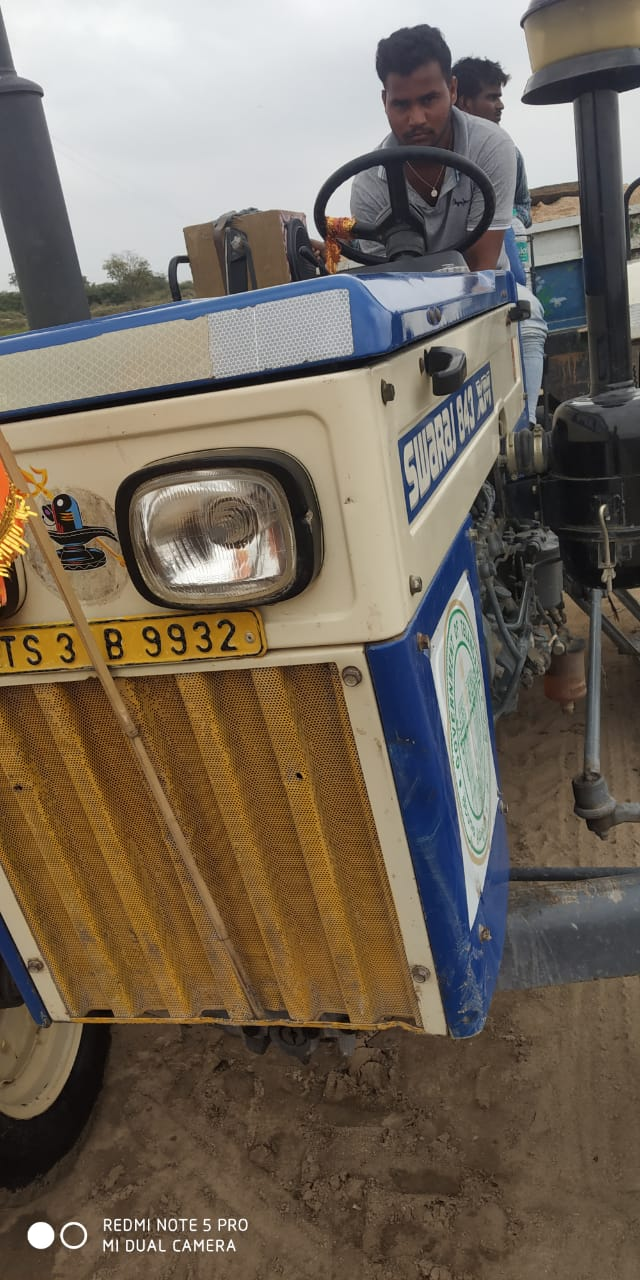num_plate: (1, 602, 273, 678)
